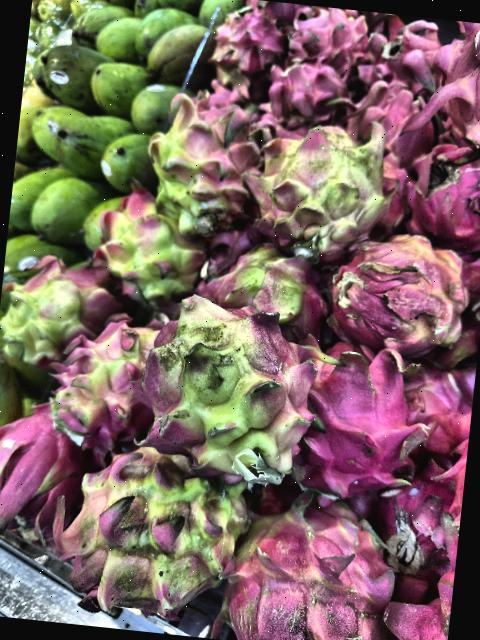buah-naga-belum-matang: (136, 286, 331, 480), (60, 437, 257, 622), (240, 118, 396, 260), (146, 92, 267, 243), (330, 228, 464, 352), (57, 300, 158, 447), (87, 192, 219, 304), (198, 230, 326, 334), (2, 252, 106, 366)
buah-naga-matang: (230, 478, 390, 640), (301, 330, 421, 496), (0, 384, 88, 530), (399, 128, 480, 253), (373, 466, 444, 584), (394, 355, 477, 451), (258, 51, 352, 132), (421, 18, 480, 140), (213, 2, 286, 94), (350, 76, 431, 152), (360, 14, 442, 85), (284, 4, 368, 71), (386, 569, 454, 640)
